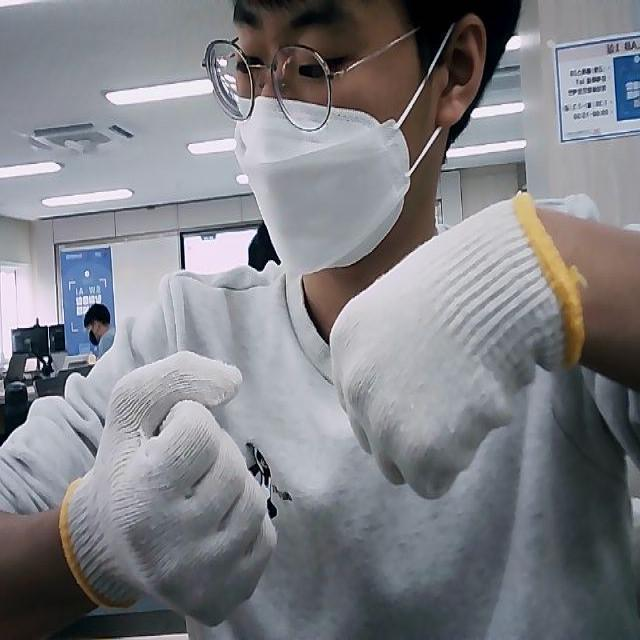gloves: (328, 191, 586, 495), (62, 352, 278, 626)
